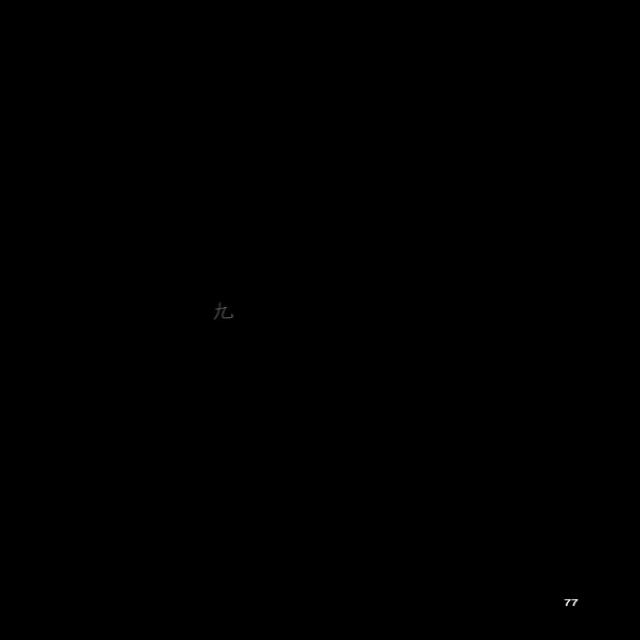9 -nine-: (206, 300, 239, 322)
